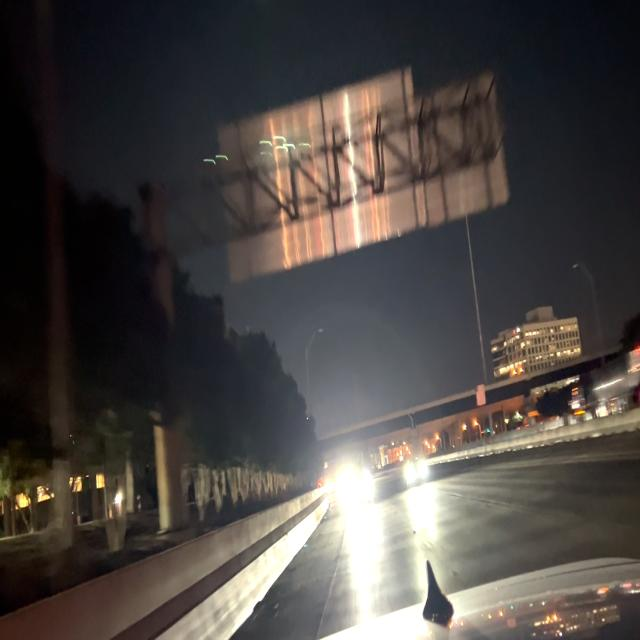back-of-sign: (219, 71, 511, 282)
